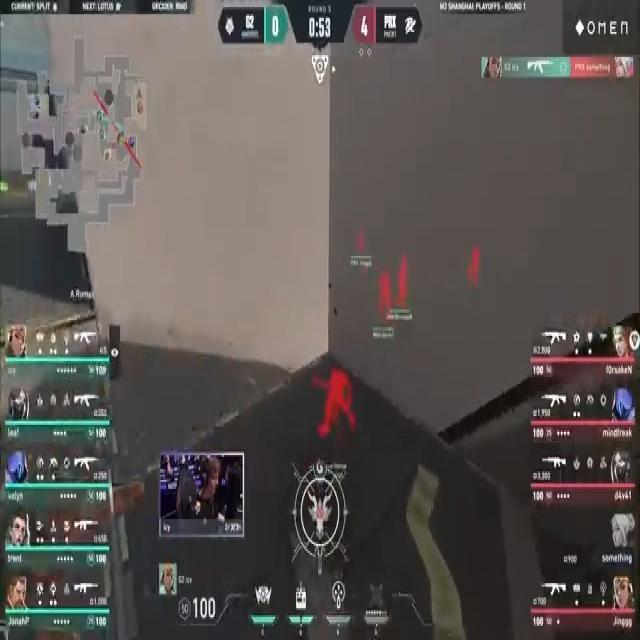enemy behind wall: (312, 360, 357, 440), (466, 243, 482, 287), (377, 265, 390, 314), (396, 255, 408, 304), (358, 226, 364, 253)
